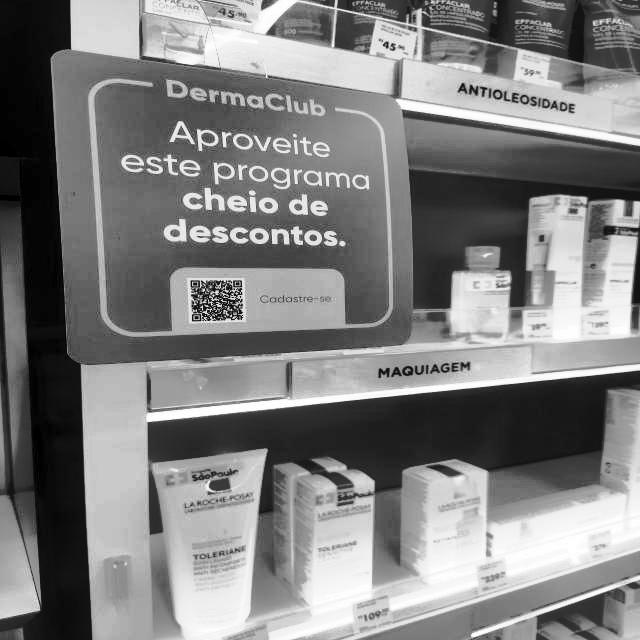qr_code: (191, 281, 244, 322)
